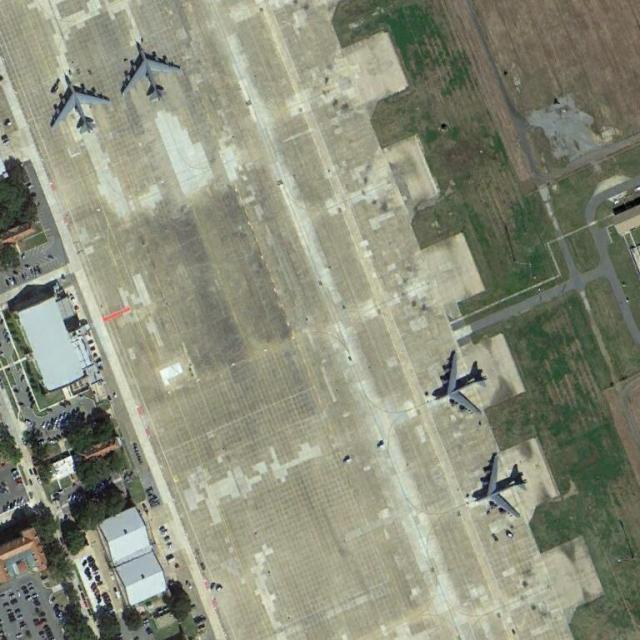fighter jet: (474, 449, 525, 520), (124, 37, 181, 96), (432, 351, 485, 412), (48, 77, 108, 130)
